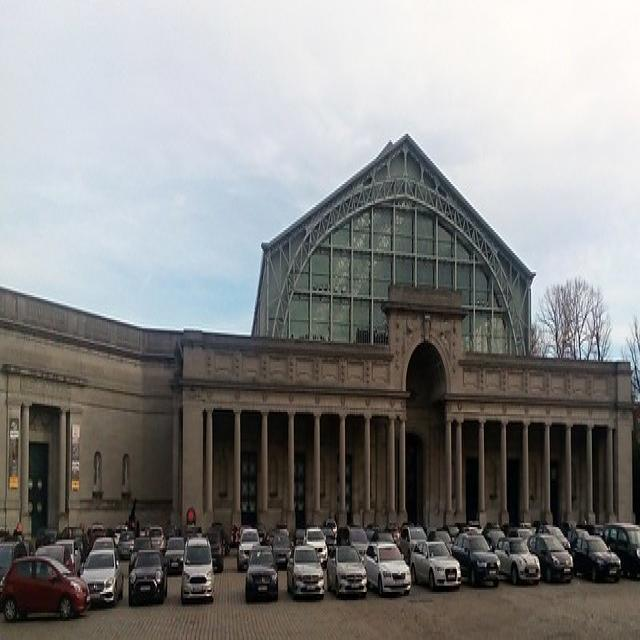Normal_building: (179, 130, 636, 529)
